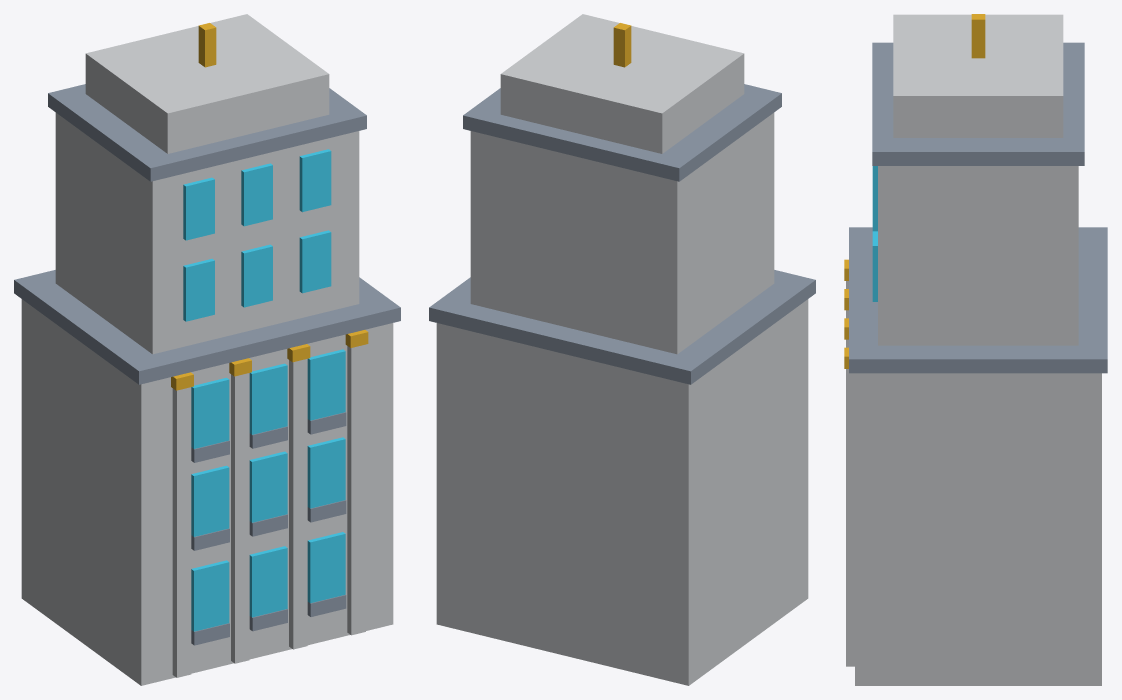
The model's file is city_building_04.glb.
3 views of the same model, side by side, from view 1: azimuth 30°, elevation 25°; view 2: azimuth 150°, elevation 25°; view 3: azimuth 270°, elevation 25° (orthographic). The views are drawn at different scales.
Parts seen in each view (by area): view 1: B04_BaseTier, B04_SetbackTier, B04_AtticStepped, B04_SetbackCornice1, B04_CrownCornice, B04_Pilaster_-2.7, B04_Pilaster_-0.9, B04_Pilaster_2.7, B04_Pilaster_0.9, B04_Window_-1.8_2.2, B04_Window_0.0_5.0, B04_Window_1.8_5.0 (+16 smaller); view 2: B04_BaseTier, B04_SetbackTier, B04_AtticStepped, B04_SetbackCornice1, B04_CrownCornice, B04_ApexSpire; view 3: B04_BaseTier, B04_SetbackTier, B04_AtticStepped, B04_SetbackCornice1, B04_CrownCornice, B04_Pilaster_2.7, B04_ApexSpire, B04_UpperWin_1.8_11.0.
Boxes of the visible parts, x1=… form: B04_BaseTier: x1=21, y1=299, x2=393, y2=685; B04_SetbackTier: x1=55, y1=112, x2=359, y2=354; B04_AtticStepped: x1=85, y1=14, x2=329, y2=153; B04_SetbackCornice1: x1=14, y1=270, x2=400, y2=384; B04_CrownCornice: x1=48, y1=84, x2=366, y2=181; B04_Pilaster_-2.7: x1=172, y1=387, x2=191, y2=677; B04_Pilaster_-0.9: x1=231, y1=373, x2=249, y2=663; B04_Pilaster_2.7: x1=347, y1=344, x2=365, y2=635; B04_Pilaster_0.9: x1=289, y1=359, x2=307, y2=649; B04_Window_-1.8_2.2: x1=191, y1=560, x2=229, y2=631; B04_Window_0.0_5.0: x1=249, y1=451, x2=287, y2=522; B04_Window_1.8_5.0: x1=307, y1=437, x2=345, y2=508; B04_BaseTier: x1=436, y1=299, x2=808, y2=685; B04_SetbackTier: x1=470, y1=112, x2=774, y2=354; B04_AtticStepped: x1=500, y1=14, x2=744, y2=153; B04_SetbackCornice1: x1=429, y1=270, x2=815, y2=384; B04_CrownCornice: x1=463, y1=84, x2=781, y2=181; B04_ApexSpire: x1=613, y1=23, x2=631, y2=67; B04_BaseTier: x1=855, y1=373, x2=1101, y2=685; B04_SetbackTier: x1=878, y1=166, x2=1078, y2=345; B04_AtticStepped: x1=893, y1=14, x2=1063, y2=137; B04_SetbackCornice1: x1=849, y1=227, x2=1107, y2=373; B04_CrownCornice: x1=872, y1=42, x2=1084, y2=165; B04_Pilaster_2.7: x1=846, y1=369, x2=854, y2=666; B04_ApexSpire: x1=971, y1=14, x2=985, y2=58; B04_UpperWin_1.8_11.0: x1=872, y1=231, x2=877, y2=301.
Bounding box in the file's own units: 8.1 × 17.3 × 6.82.
